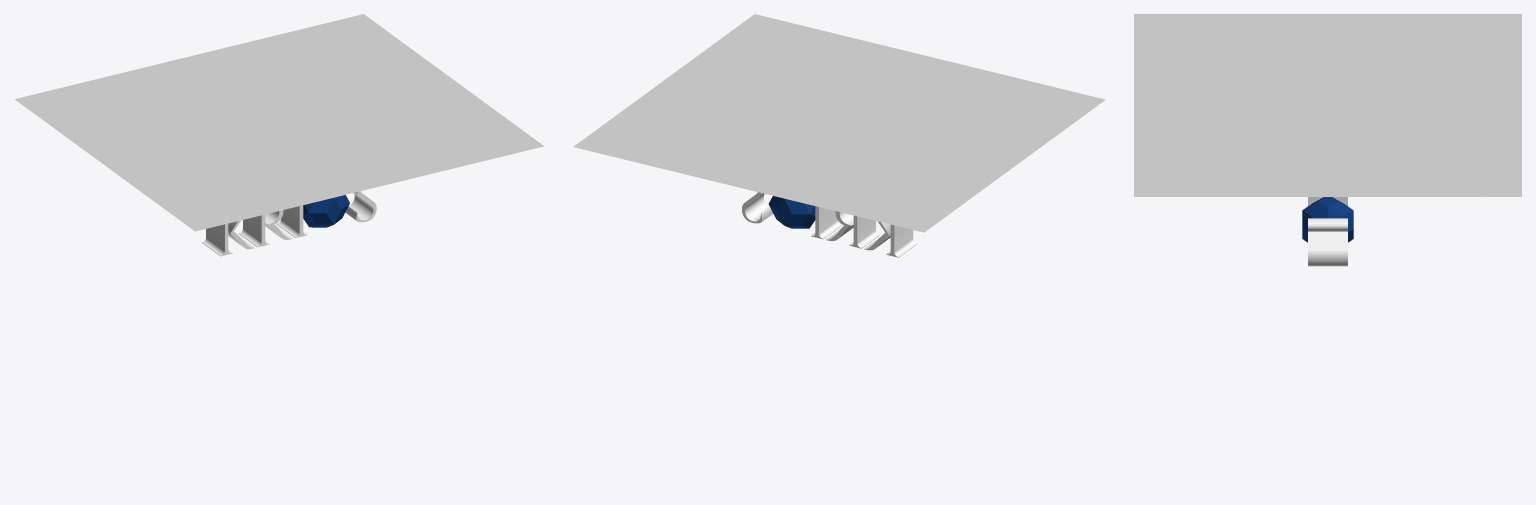
The picture shows the model from 3 angles, left to right: view 1: azimuth 30°, elevation 25°; view 2: azimuth 150°, elevation 25°; view 3: azimuth 270°, elevation 25°; orthographic projection. The views are drawn at different scales.
Visible parts, largest first — view 1: Plane, Solid, R, K, S, I; view 2: Plane, Solid, R, K, S, I; view 3: Plane, S, Solid.
Boxes of the visible parts, <box> form: Plane: <box>14,14,543,231</box>; Solid: <box>303,195,349,227</box>; R: <box>238,210,292,247</box>; K: <box>202,220,254,256</box>; S: <box>345,191,376,222</box>; I: <box>276,205,307,237</box>; Plane: <box>573,14,1105,232</box>; Solid: <box>768,196,815,228</box>; R: <box>826,211,880,248</box>; K: <box>864,221,917,257</box>; S: <box>742,192,772,223</box>; I: <box>811,206,842,239</box>; Plane: <box>1134,14,1521,196</box>; S: <box>1308,218,1347,266</box>; Solid: <box>1302,197,1353,242</box>.
Bounding box in the file's own units: 2286 × 1768 × 2049.
